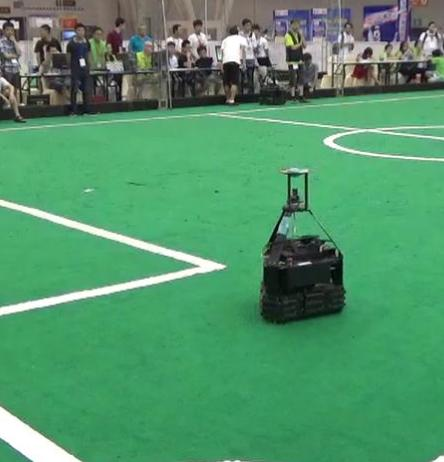robot: (254, 160, 357, 325)
